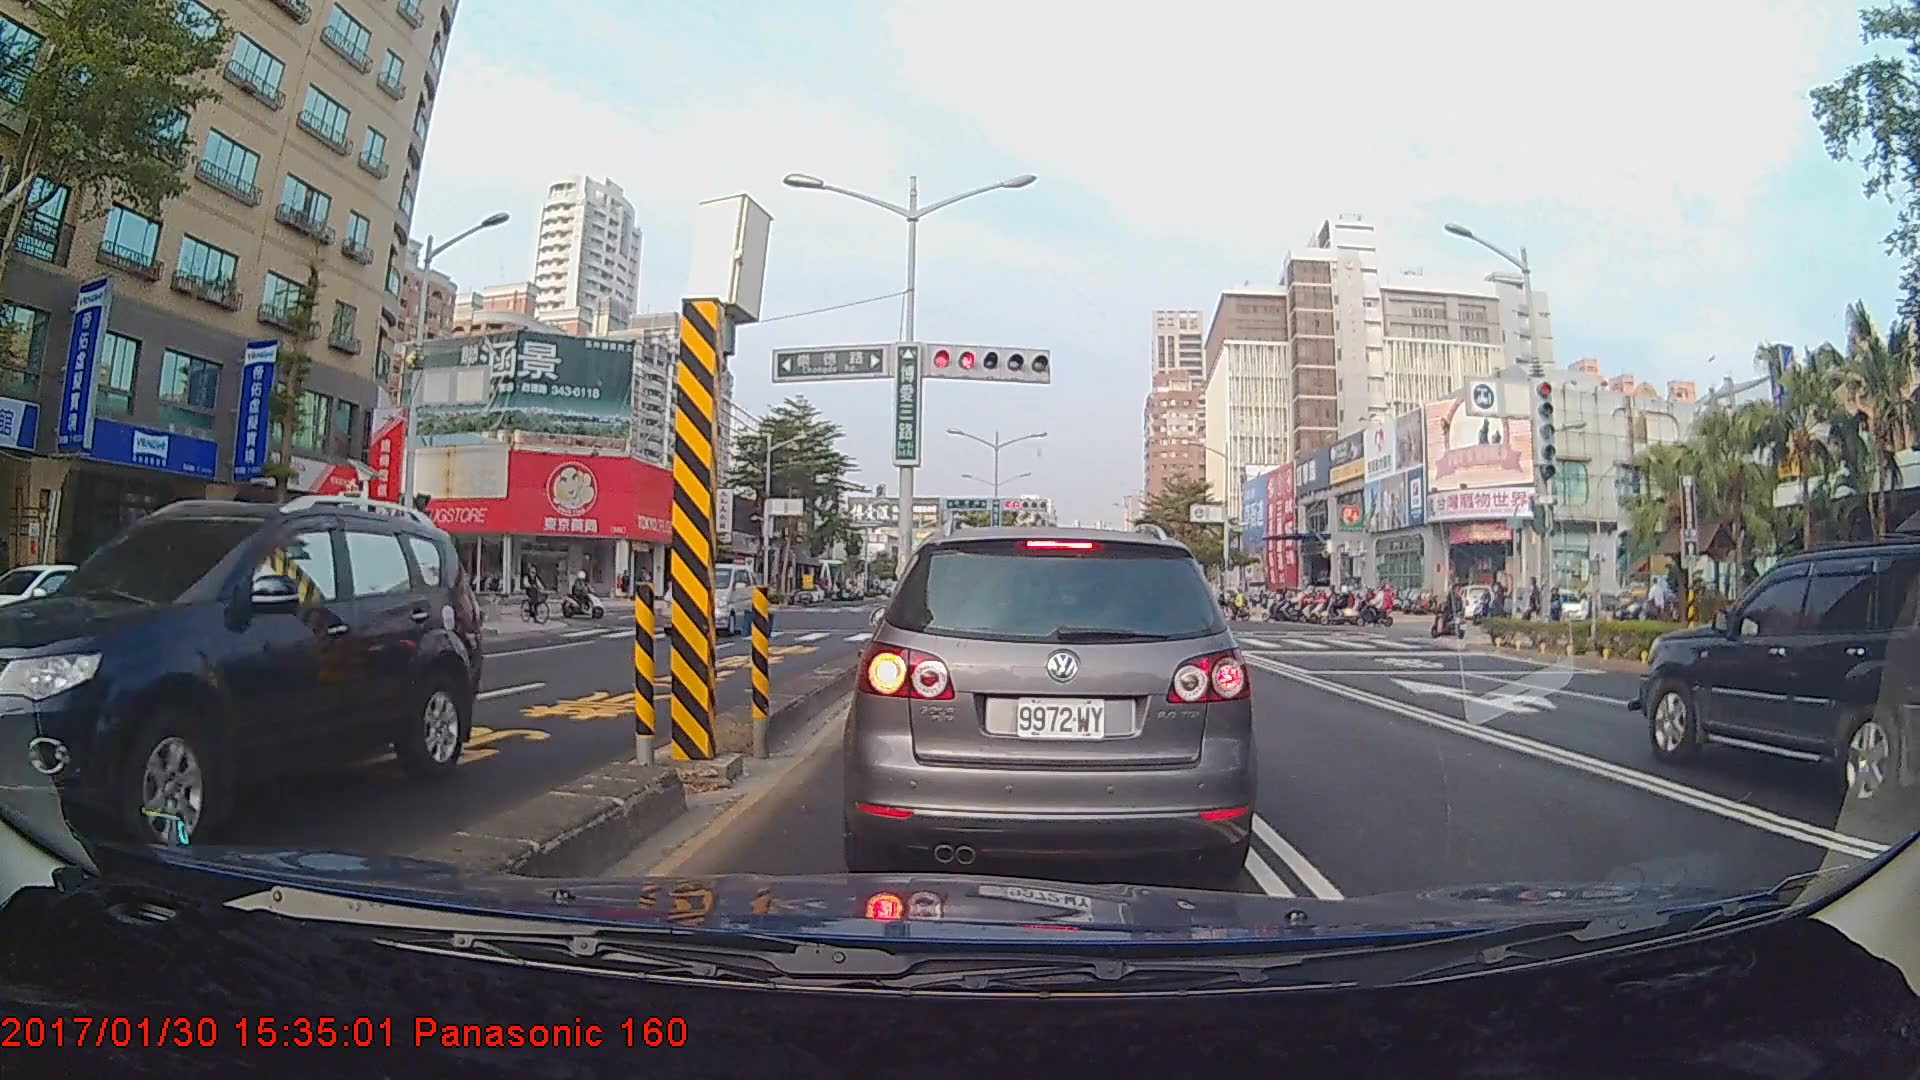pedestrian: (1647, 577, 1668, 635)
rider: (562, 566, 609, 619), (1427, 582, 1466, 637)
vehicle: (0, 499, 477, 848), (837, 516, 1261, 881), (1636, 536, 1920, 811), (658, 561, 759, 637)
